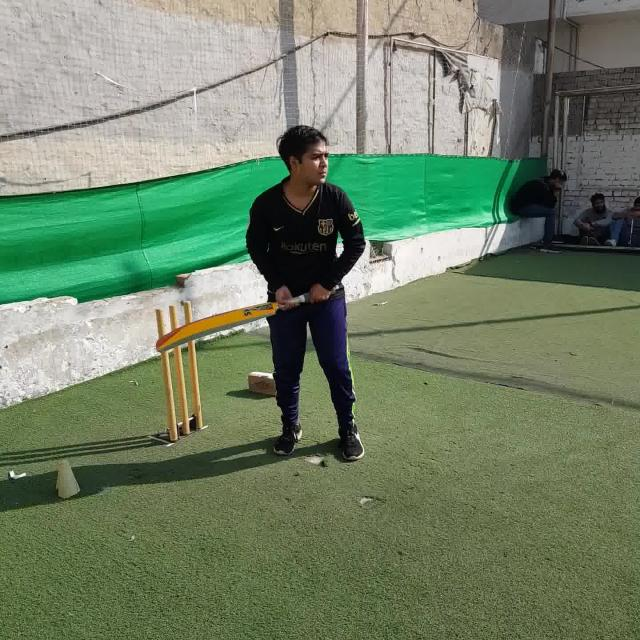bat: (156, 288, 337, 352)
